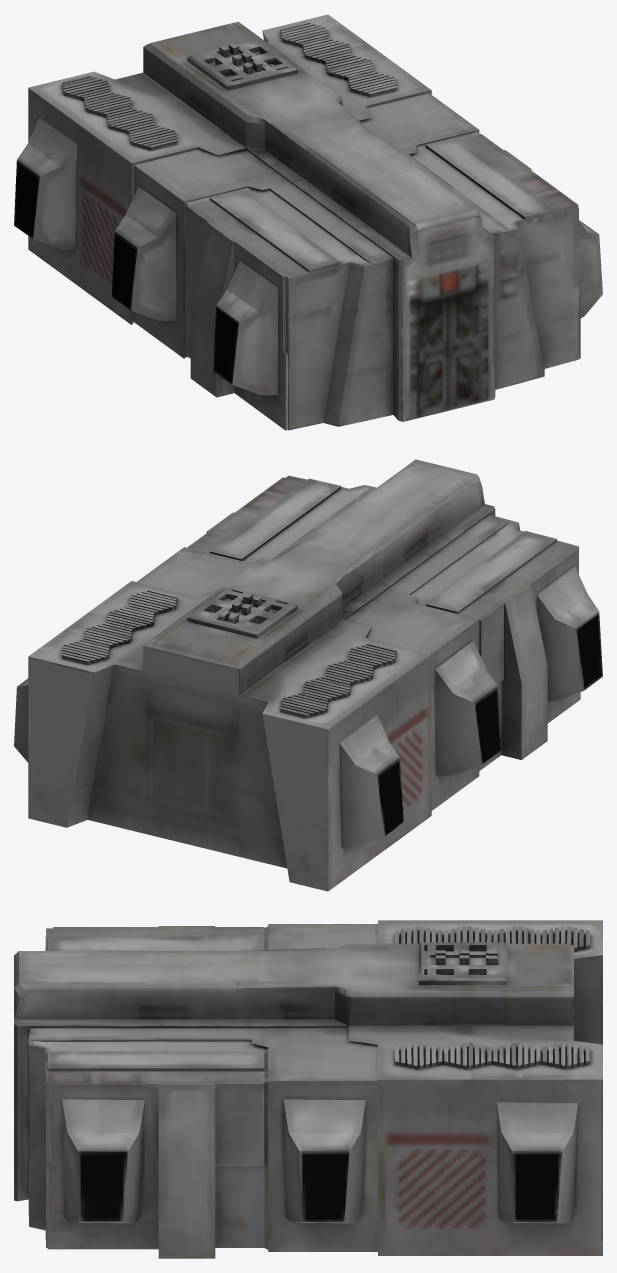
Rendered from living_house.fbx.
3 views of the same model, one above another, from view 1: azimuth 30°, elevation 25°; view 2: azimuth 150°, elevation 25°; view 3: azimuth 270°, elevation 25° (orthographic). The views are drawn at different scales.
Visible parts, largest first — view 1: Group28152, Object003, Object001, Object002; view 2: Group28152, Object003, Object002, Object001; view 3: Group28152, Object003, Object001, Object002.
Boxes of the visible parts, x1,y1,x2,y2 form: Group28152: (14,14,602,430); Object003: (180,39,305,93); Object001: (280,22,396,97); Object002: (62,75,177,150); Group28152: (14,459,602,891); Object003: (179,587,305,641); Object002: (280,643,396,718); Object001: (62,589,177,664); Group28152: (14,920,602,1258); Object003: (412,942,513,987); Object001: (394,1042,589,1069); Object002: (394,926,589,951).
Bounding box in the file's own units: 128 × 67.04 × 161.
